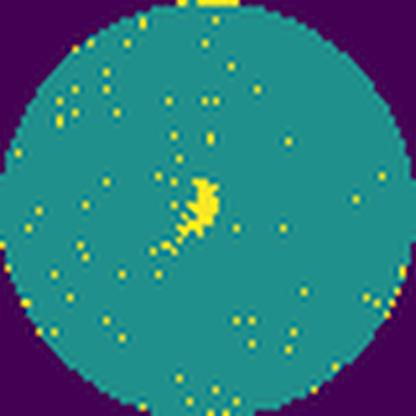Center: (173, 177, 222, 247)
